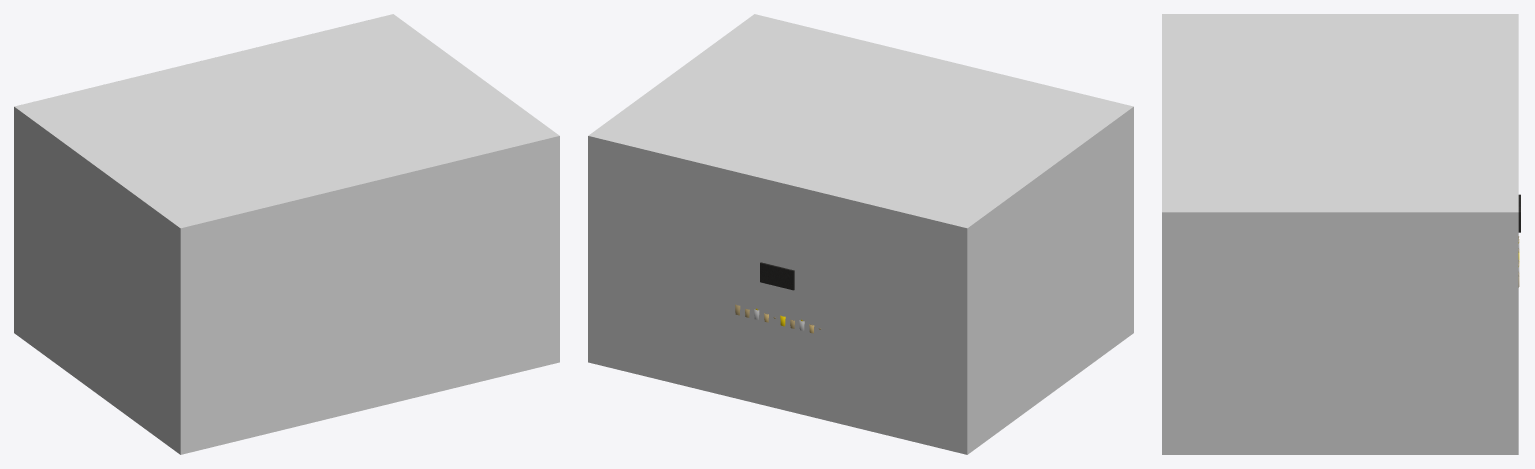
File: sborka.fbx
3 views of the same model, side by side, from view 1: azimuth 30°, elevation 25°; view 2: azimuth 150°, elevation 25°; view 3: azimuth 270°, elevation 25° (orthographic). The views are drawn at different scales.
Visible parts, largest first — view 1: Передняя стена, Потолок, Левая стена; view 2: Задняя стена, Потолок, Левая стена, Монитор; view 3: Правая стена, Потолок.
Part boxes in pixels (bbox=[...]): Передняя стена: bbox=[180, 136, 559, 454]; Потолок: bbox=[14, 14, 559, 228]; Левая стена: bbox=[14, 107, 180, 454]; Задняя стена: bbox=[588, 136, 967, 454]; Потолок: bbox=[588, 14, 1133, 228]; Левая стена: bbox=[967, 107, 1133, 454]; Монитор: bbox=[760, 262, 794, 290]; Правая стена: bbox=[1162, 212, 1518, 454]; Потолок: bbox=[1162, 14, 1518, 212].
Bounding box in the file's own units: 500 × 285 × 382.
